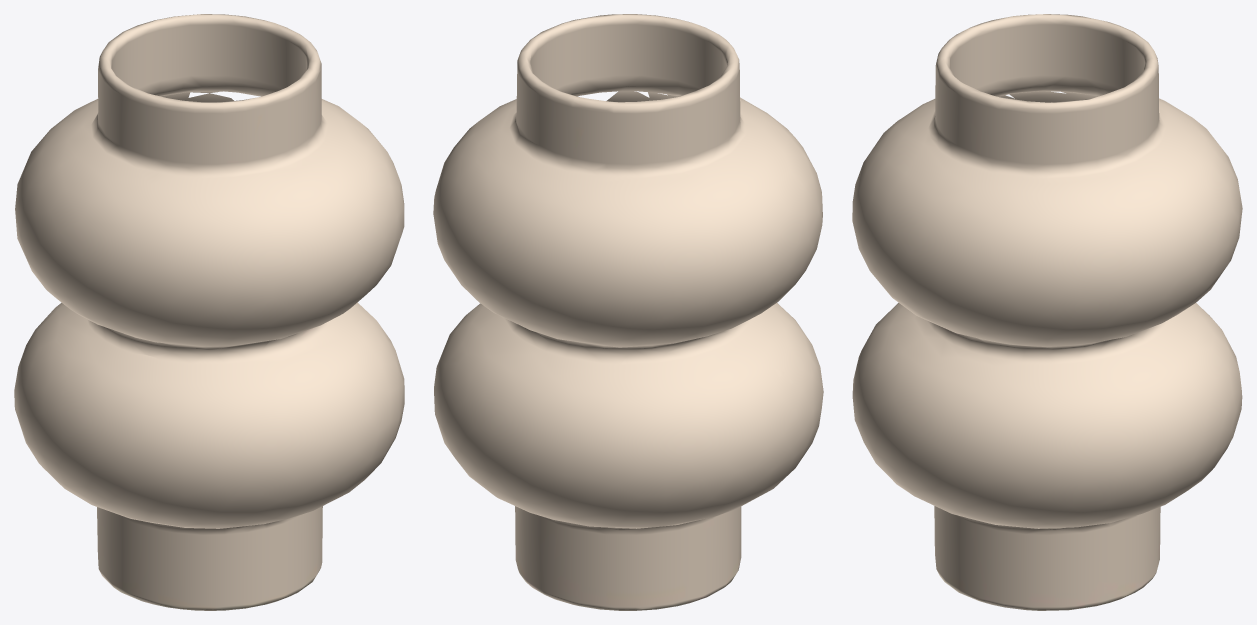
Rendered from parlhagg_wazon_80623405.glb.
3 renders of one model, left to right at view 1: azimuth 30°, elevation 25°; view 2: azimuth 150°, elevation 25°; view 3: azimuth 270°, elevation 25°, orthographic.
Parts seen in each view (by area): view 1: parlhagg_wazon_80623405; view 2: parlhagg_wazon_80623405; view 3: parlhagg_wazon_80623405.
Part boxes in pixels (x1=…): parlhagg_wazon_80623405: x1=14, y1=14, x2=404, y2=610; parlhagg_wazon_80623405: x1=433, y1=14, x2=823, y2=610; parlhagg_wazon_80623405: x1=852, y1=14, x2=1242, y2=610.
Bounding box in the file's own units: 0.1483 × 0.2126 × 0.1484.
2 materials, 2 textured.
